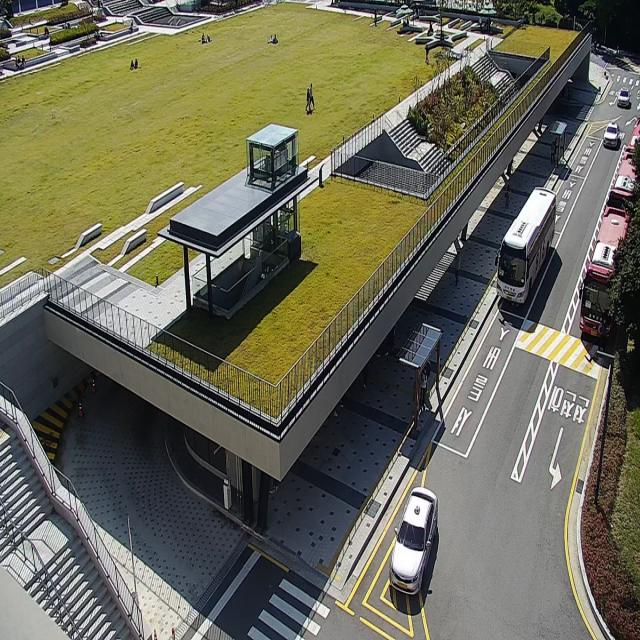queue: (412, 329, 439, 434)
